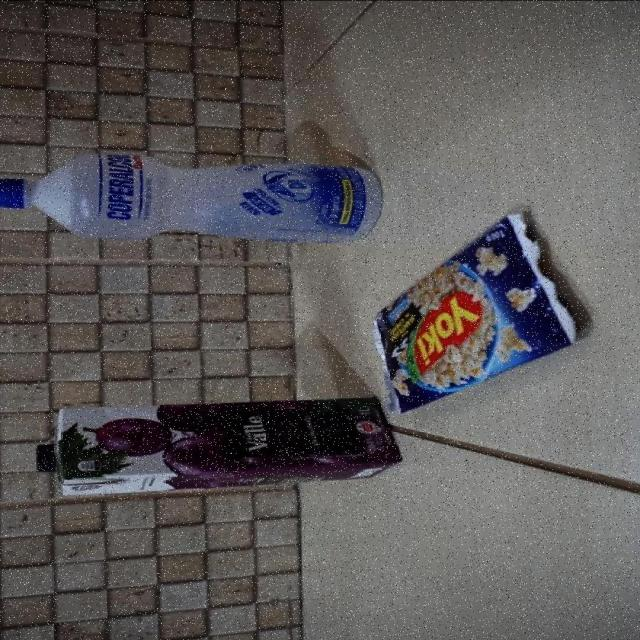AlcoholBottle: (0, 153, 373, 239)
Popcorn: (374, 214, 594, 413)
